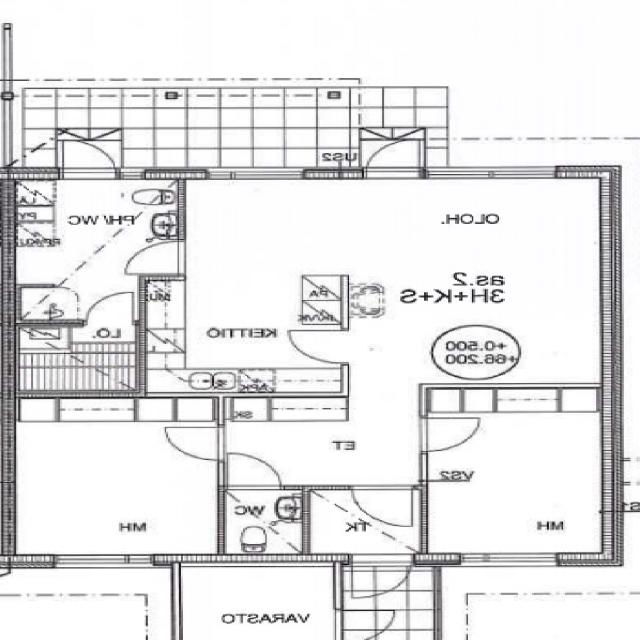door: (353, 552, 413, 604), (64, 131, 118, 178), (368, 131, 421, 178), (356, 485, 413, 526), (168, 427, 227, 460), (230, 452, 282, 489), (423, 418, 481, 451), (129, 241, 188, 273), (291, 330, 349, 362), (336, 610, 396, 640), (89, 290, 136, 324)
